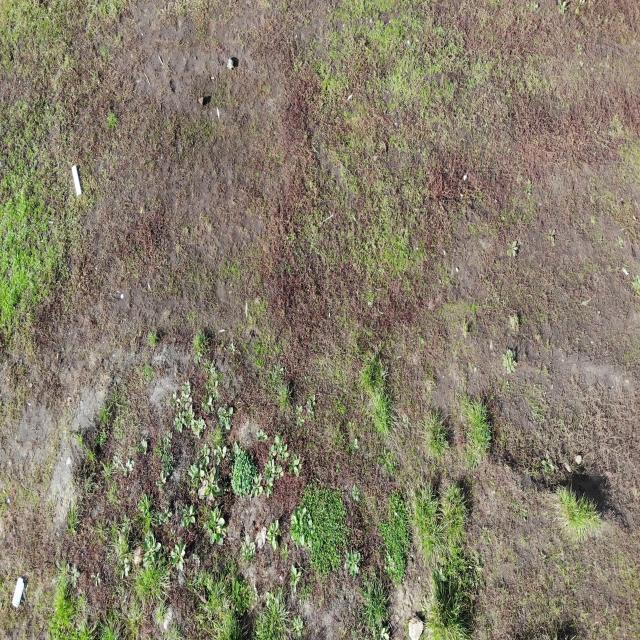rubbish: (11, 576, 25, 608), (70, 163, 83, 196)
